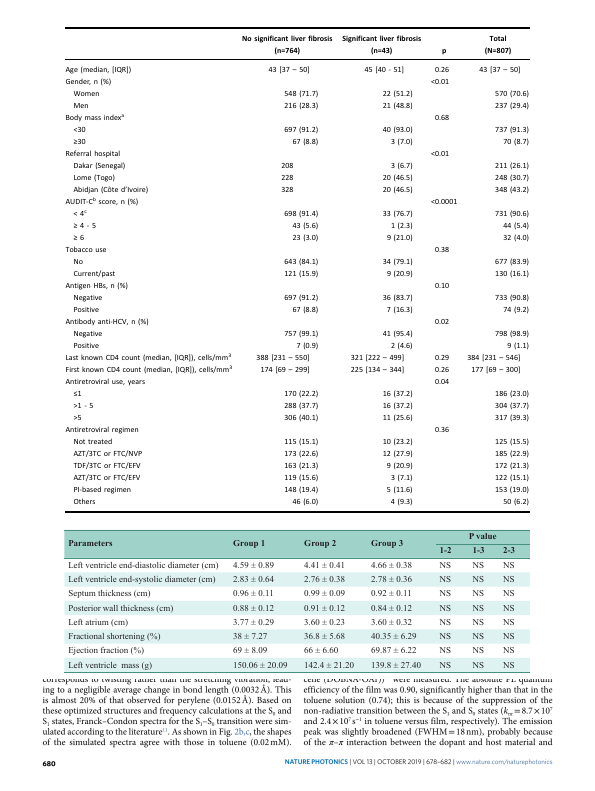borderless: (65, 26, 529, 511), (63, 528, 530, 672)
cell: (241, 34, 333, 55), (65, 364, 233, 375), (65, 352, 232, 363), (341, 34, 422, 55), (66, 561, 219, 571), (66, 575, 216, 585), (66, 604, 174, 614), (66, 632, 161, 642), (66, 589, 151, 600), (66, 661, 152, 671), (66, 646, 144, 657), (65, 196, 139, 207), (65, 318, 150, 327), (65, 378, 146, 387), (72, 473, 141, 483), (73, 186, 149, 195), (65, 426, 140, 435), (65, 112, 125, 123), (72, 450, 143, 459), (72, 462, 142, 471), (66, 618, 128, 628), (65, 66, 132, 75), (484, 34, 512, 55), (65, 282, 129, 291), (232, 661, 288, 671), (72, 486, 132, 495), (370, 646, 417, 657), (303, 661, 354, 671), (370, 661, 421, 671), (65, 150, 121, 159), (255, 354, 311, 363), (350, 354, 405, 363), (466, 354, 521, 363), (350, 366, 405, 375), (73, 162, 126, 171), (370, 632, 417, 642), (259, 366, 311, 375), (232, 589, 274, 600), (303, 589, 345, 600), (370, 589, 412, 600), (67, 540, 113, 550), (470, 366, 521, 375), (65, 78, 112, 87), (232, 561, 274, 571), (303, 561, 345, 571), (370, 561, 412, 571), (232, 575, 274, 585), (303, 575, 345, 585), (370, 575, 412, 585), (232, 604, 274, 614), (303, 604, 345, 614), (370, 604, 412, 614), (232, 618, 274, 628), (303, 618, 345, 628), (370, 618, 412, 628), (303, 632, 345, 642), (72, 437, 113, 447), (232, 646, 268, 657), (303, 646, 339, 657), (268, 66, 311, 75), (478, 66, 521, 75), (73, 174, 116, 183), (65, 246, 108, 255), (73, 270, 116, 279), (364, 66, 405, 75), (232, 632, 268, 642), (283, 329, 319, 339), (494, 329, 530, 339), (283, 437, 319, 447), (494, 437, 530, 447), (283, 473, 319, 483), (494, 473, 530, 483), (369, 540, 404, 550), (232, 540, 266, 550), (303, 540, 337, 550), (283, 90, 319, 99), (494, 90, 530, 99), (283, 102, 319, 111), (494, 102, 530, 111), (283, 126, 319, 135), (494, 126, 530, 135), (494, 162, 530, 171), (494, 174, 530, 183), (494, 186, 530, 195), (283, 210, 319, 219), (494, 210, 530, 219), (283, 258, 319, 267), (494, 258, 530, 267), (283, 270, 319, 279), (494, 270, 530, 279), (283, 294, 319, 303), (494, 294, 530, 303), (283, 390, 319, 399), (494, 390, 530, 399), (283, 402, 319, 411), (494, 402, 530, 411), (283, 414, 319, 423), (494, 414, 530, 423), (283, 450, 319, 459), (494, 450, 530, 459), (283, 462, 319, 471), (494, 462, 530, 471), (283, 486, 319, 495), (494, 486, 530, 495), (382, 329, 414, 339), (382, 437, 414, 447), (72, 329, 103, 339), (467, 533, 497, 543), (382, 90, 414, 99), (382, 102, 414, 111), (382, 126, 414, 135), (382, 174, 414, 183), (382, 186, 414, 195), (382, 210, 414, 219), (382, 258, 414, 267), (382, 294, 414, 303), (382, 390, 414, 399), (382, 402, 414, 411), (382, 414, 414, 423), (382, 450, 414, 459), (72, 294, 103, 303), (291, 138, 319, 147), (502, 138, 530, 147), (430, 198, 458, 207), (291, 222, 319, 231), (502, 222, 530, 231), (291, 234, 319, 243), (386, 234, 414, 243), (502, 234, 530, 243), (386, 270, 414, 279), (72, 306, 100, 315), (291, 306, 319, 315), (386, 306, 414, 315), (502, 306, 530, 315), (72, 342, 100, 351), (386, 462, 414, 471), (386, 486, 414, 495), (291, 498, 319, 507), (502, 498, 530, 507), (73, 90, 100, 99), (390, 473, 414, 483), (72, 222, 97, 231), (72, 498, 97, 507), (390, 138, 414, 147), (390, 162, 414, 171), (390, 222, 414, 231), (390, 342, 414, 351), (506, 342, 530, 351), (390, 498, 414, 507), (296, 342, 319, 351), (73, 402, 94, 411), (430, 78, 450, 87), (430, 150, 450, 159), (72, 208, 88, 219), (438, 589, 452, 600), (471, 589, 485, 600), (438, 646, 452, 657), (471, 646, 485, 657), (73, 102, 90, 111), (434, 66, 450, 75), (434, 114, 450, 123), (434, 246, 450, 255), (434, 282, 450, 291), (434, 318, 450, 327), (434, 354, 450, 363), (434, 366, 450, 375), (434, 378, 450, 387), (434, 426, 450, 435), (502, 589, 515, 600), (502, 646, 515, 657), (438, 547, 452, 557), (471, 547, 485, 557), (501, 547, 515, 557), (438, 561, 452, 571), (471, 561, 485, 571), (438, 575, 452, 585), (471, 575, 485, 585), (438, 604, 452, 614), (471, 604, 485, 614), (438, 618, 452, 628), (471, 618, 485, 628), (438, 632, 452, 642), (471, 632, 485, 642), (438, 661, 452, 671), (471, 661, 485, 671), (502, 561, 515, 571), (502, 575, 515, 585), (502, 604, 515, 614), (502, 618, 515, 628), (502, 632, 515, 642), (502, 661, 515, 671), (73, 126, 87, 135), (73, 138, 87, 147), (280, 162, 294, 171), (280, 174, 294, 183), (280, 186, 294, 195), (73, 234, 85, 243), (73, 258, 84, 267), (72, 414, 83, 423), (73, 390, 83, 399), (441, 46, 447, 55)
